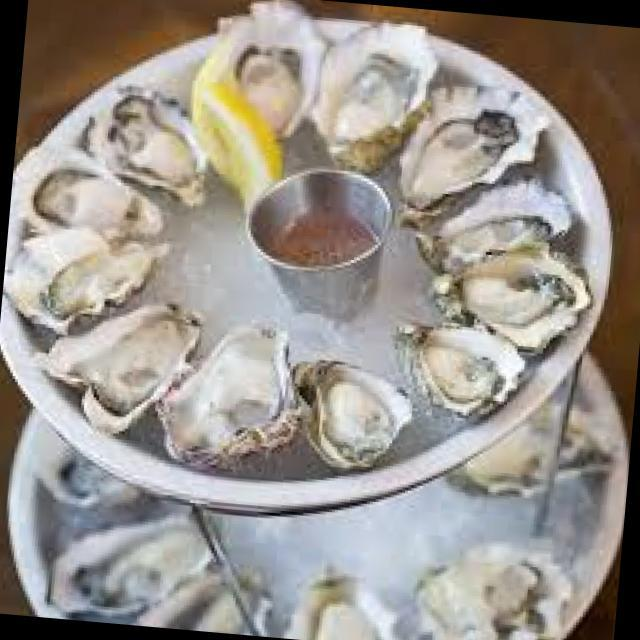Oyster-Open: (157, 319, 303, 478), (201, 6, 344, 148), (399, 84, 555, 214), (40, 303, 206, 425), (310, 25, 440, 176), (457, 395, 636, 502), (91, 90, 232, 213), (8, 230, 171, 336), (431, 252, 588, 351), (411, 538, 562, 640), (14, 138, 162, 239), (290, 359, 412, 473), (392, 326, 532, 425), (417, 195, 583, 275), (275, 566, 400, 640)
